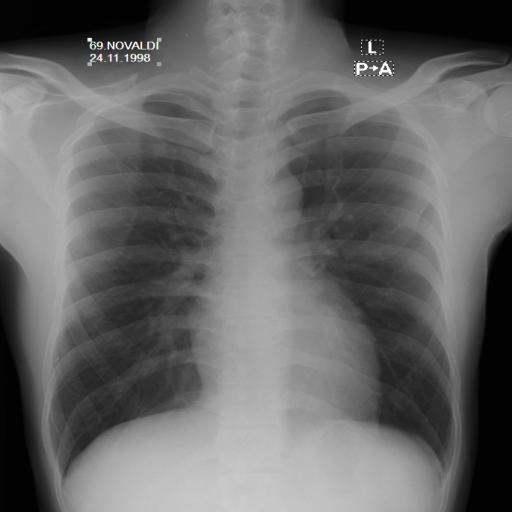normal: (22, 54, 469, 484)
